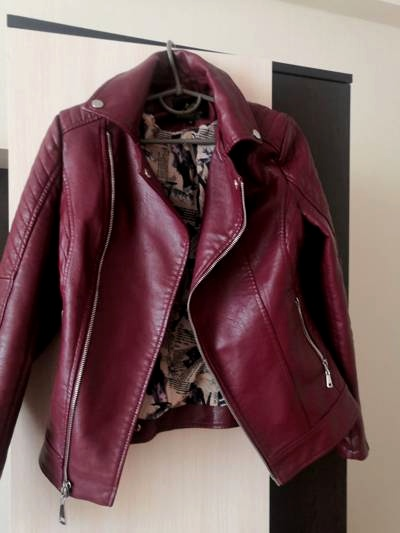Blazer: (5, 51, 378, 505)
